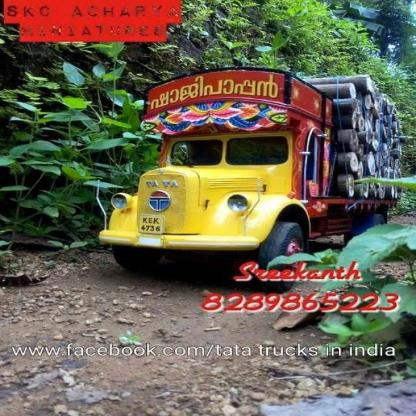truck: (85, 80, 400, 270)
